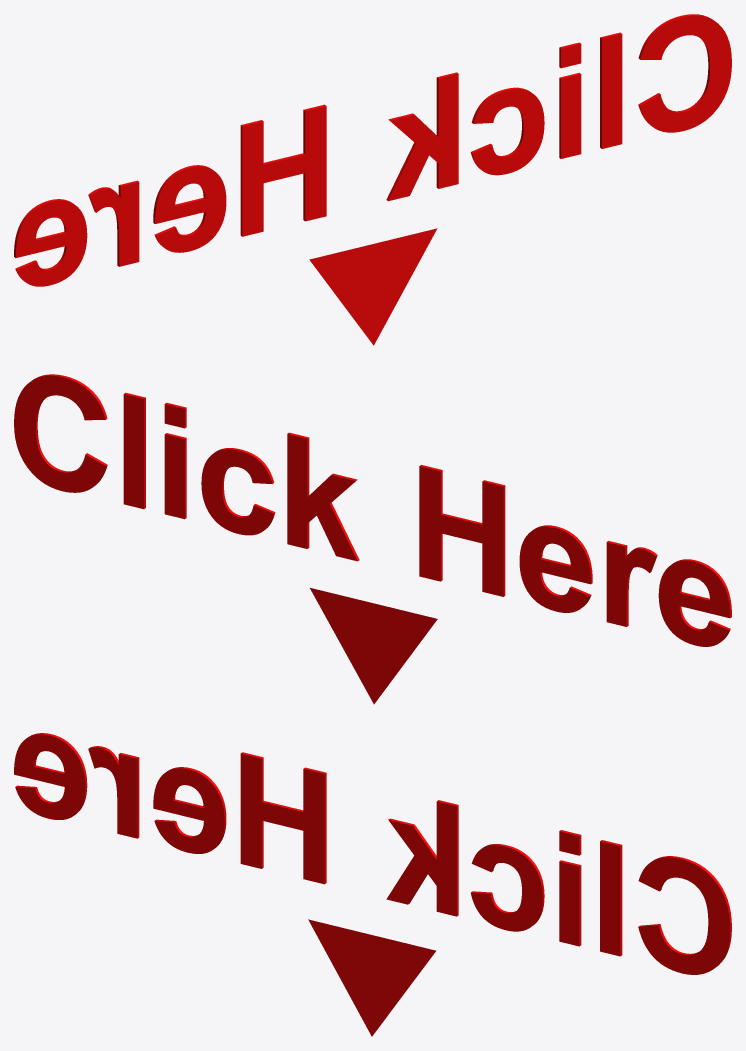
File: Click Here TXT.fbx
3 renders of one model, top to bottom at view 1: azimuth 30°, elevation 25°; view 2: azimuth 150°, elevation 25°; view 3: azimuth 330°, elevation 25°, orthographic.
Visible parts, largest first — view 1: Text001, Arrow; view 2: Text001, Arrow; view 3: Text001, Arrow.
Boxes of the visible parts, x1,y1,x2,y2 form: Text001: (14,14,731,286); Arrow: (309,228,437,345); Text001: (14,374,731,646); Arrow: (310,588,437,704); Text001: (14,733,731,974); Arrow: (308,919,435,1036).
Size of the model in its own units: 286 by 96.58 by 1.27.
